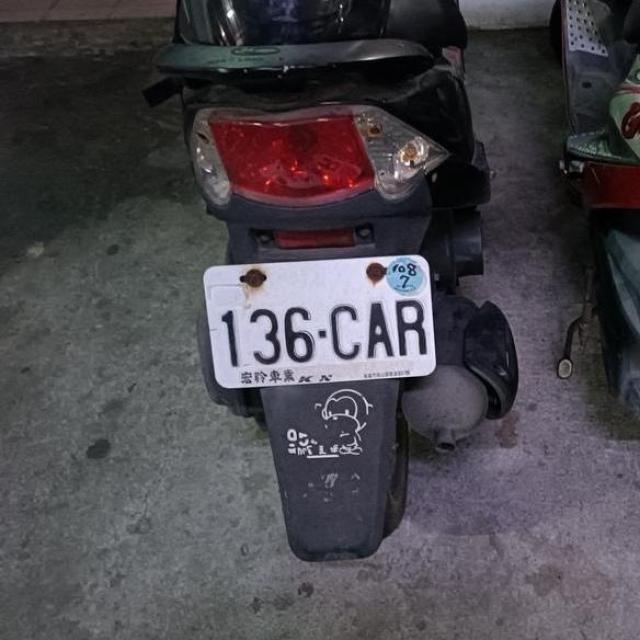W: (198, 251, 443, 392)
